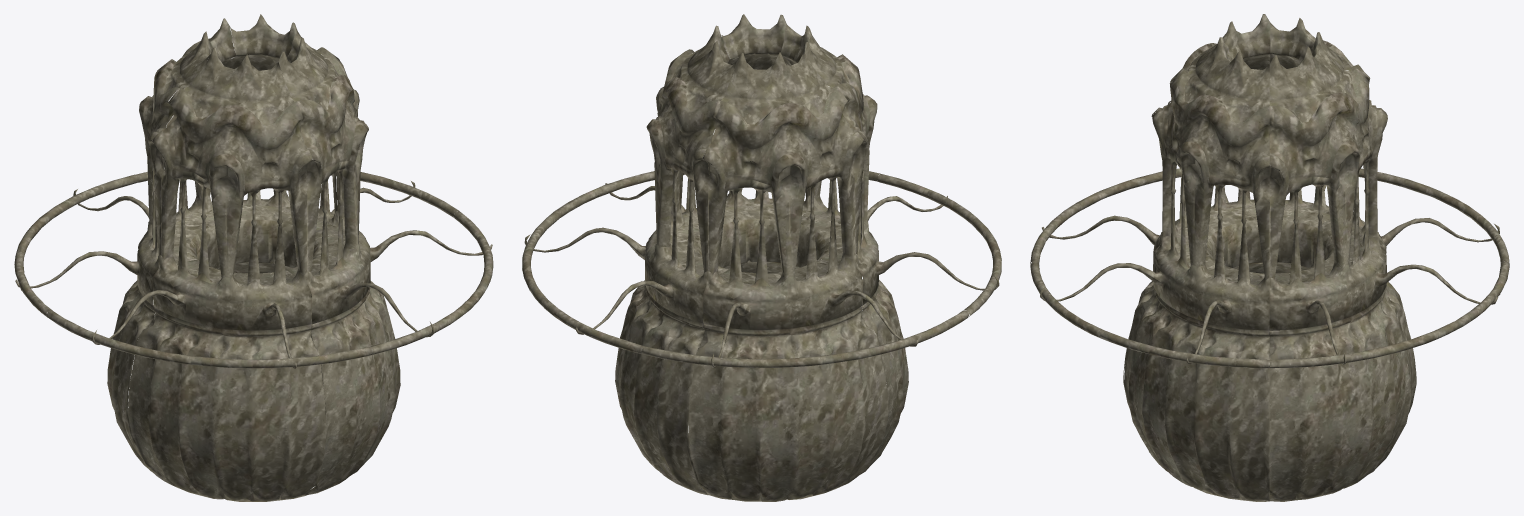
File: UW_Building_A-transformed.glb
3 renders of one model, left to right at view 1: azimuth 30°, elevation 25°; view 2: azimuth 150°, elevation 25°; view 3: azimuth 270°, elevation 25°, orthographic.
Parts seen in each view (by area): view 1: UW_Building_A; view 2: UW_Building_A; view 3: UW_Building_A.
Boxes of the visible parts, <box> form: UW_Building_A: <box>14,14,493,501</box>; UW_Building_A: <box>522,14,1001,501</box>; UW_Building_A: <box>1030,14,1509,501</box>.
Size of the model in its own units: 25.38 by 24.81 by 25.38.
Materials: 1 (1 with a texture image).
